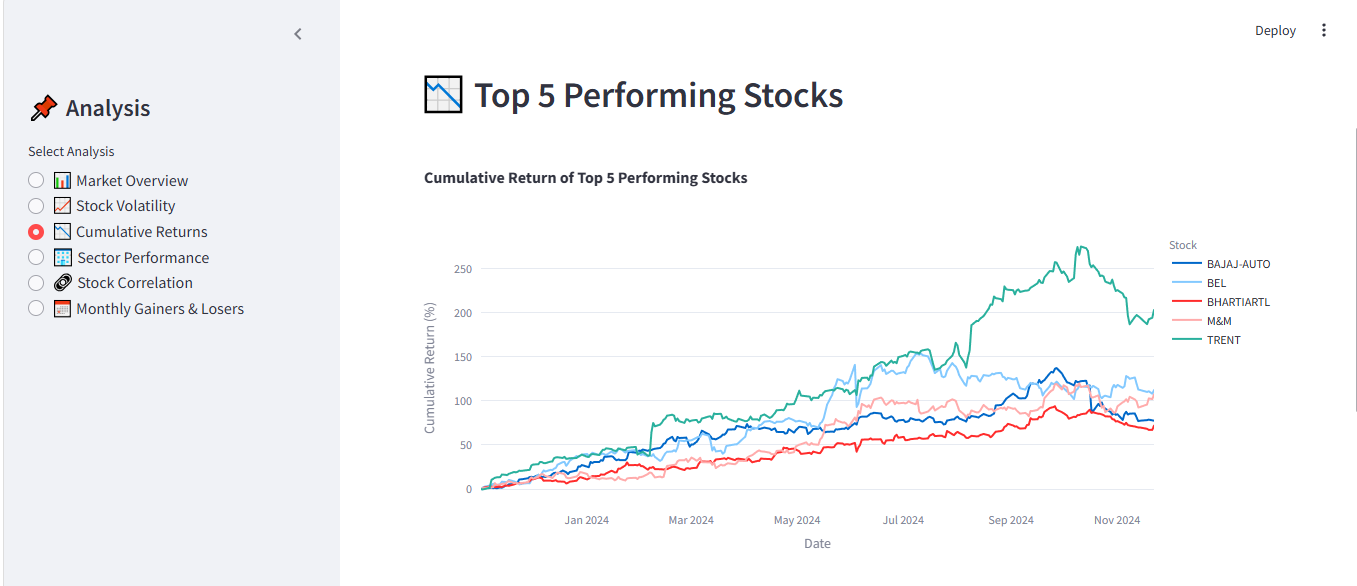

What the dashboard file says about the page in this screenshot:
{"tool":"powerbi","page":{"name":"Page 4","canvas":[1920,1080],"ordinal":3},"visuals":[{"type":"lineChart","title":"CUMULATIVE RETURNS COMPARISON -TOP 5 NIFTY 50 STOCKS","fields":{"Category":["stock_analysis top_5_cumulative_returns.Date"],"Series":["stock_analysis top_5_cumulative_returns.Stock"],"Y":["Sum(stock_analysis top_5_cumulative_returns.Cumulative_Return_%)"]},"box":[0,0,1534.8,685.5],"z":0}]}

Visuals, with their boxes on the page's 1920x1080 design canvas (x1, y1, x2, y2). These are canvas units, not pixel positions in the 1357x586 screenshot, which may show the page scaled, cropped or inside an application window:
"CUMULATIVE RETURNS COMPARISON -TOP 5 NIFTY 50 STOCKS" lineChart: (x1=0, y1=0, x2=1535, y2=686)
